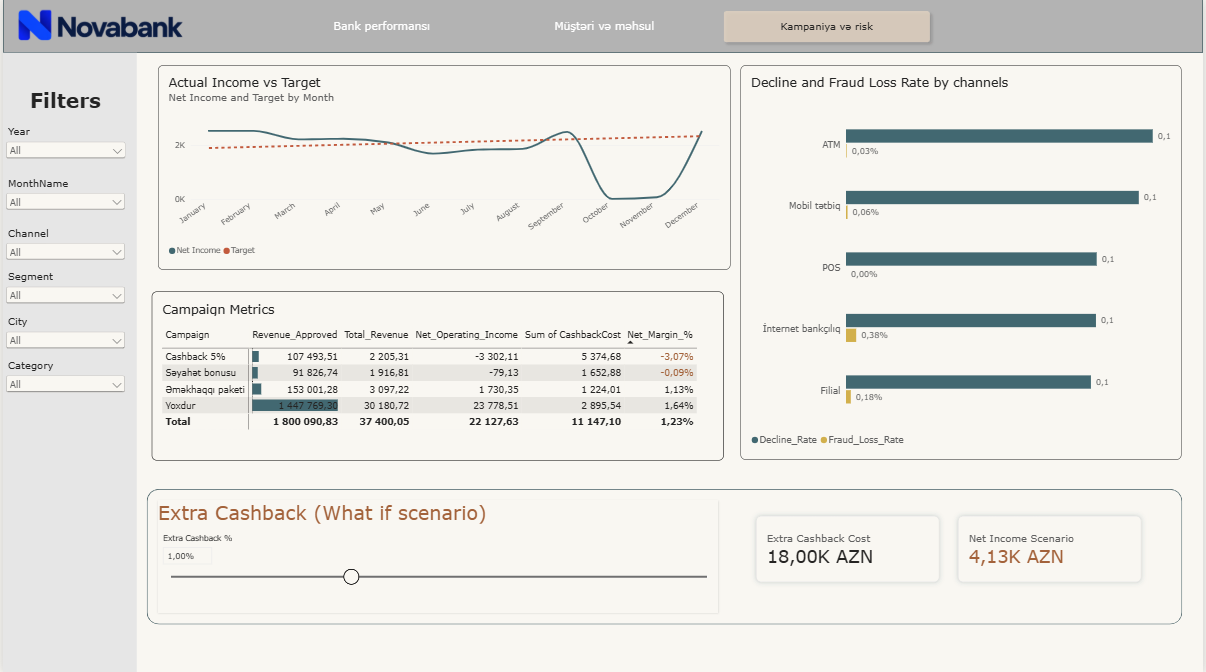

Layout of this report page (visuals, bound fields, positions):
{"tool":"powerbi","page":{"name":"Kampaniya və risk","canvas":[1920,1080],"ordinal":2},"visuals":[{"type":"shape","box":[229.8,783.6,1656.7,216.7],"z":0},{"type":"shape","box":[0,0,1920,86],"z":1000},{"type":"pageNavigator","box":[432,10,1062,68],"z":2000},{"type":"image","box":[0,0,312,84],"z":3000},{"type":"shape","box":[0,86,214,994],"z":4000},{"type":"slicer","fields":{"Values":["Calendar.Year"]},"box":[0,202,200.9,67],"z":5000},{"type":"slicer","fields":{"Values":["Calendar.MonthName"]},"box":[0,284,200,65.7],"z":6000},{"type":"slicer","fields":{"Values":["Customers.Segment"]},"box":[0,434,200,70],"z":7000},{"type":"slicer","fields":{"Values":["Transactions_2024_2025.Channel"]},"box":[0,364,200,70],"z":8000},{"type":"slicer","fields":{"Values":["Branches.City"]},"box":[0,506,200,70],"z":9000},{"type":"textbox","box":[0,142,200,44],"z":10000},{"type":"slicer","fields":{"Values":["Products.Category"]},"box":[0,576.7,200,70],"z":11000},{"type":"pivotTable","title":"Campaign Metrics","fields":{"Rows":["Transactions_2024_2025.Campaign"],"Values":["Metrics.Revenue_Approved","Metrics.Total_Revenue","Metrics.Net_Operating_Income","Sum(Transactions_2024_2025.CashbackCost)","Metrics.Net_Margin_%"]},"box":[238.9,468.7,915,270],"z":12000},{"type":"clusteredBarChart","title":"Decline and Fraud Loss Rate by channels","fields":{"Category":["Transactions_2024_2025.Channel"],"Y":["Metrics.Decline_Rate","Metrics.Fraud_Loss_Rate"]},"box":[1179.9,106.8,705.8,631.6],"z":13000},{"type":"lineChart","title":"Actual Income vs Target","fields":{"Category":["Targets.MonthStart.Variation.Date Hierarchy.Month"],"Y":["Metrics.Net_Operating_Income","Sum(Targets.NetIncomeTarget)"]},"box":[247.9,106.8,915.7,327.5],"z":14000},{"type":"cardVisual","fields":{"Data":["Metrics.Extra_Cashback_Cost","Metrics.Net_Operating_Income_Scenario"]},"box":[1194.4,816.2,638,128],"z":15000},{"type":"slicer","title":"Extra Cashback (What if scenario)","fields":{"Values":["Extra Cashback %.Extra Cashback %"]},"box":[247.9,801.7,896.7,180],"z":16000}]}

Visuals, with their boxes in screenshot pixels (x1, y1, x2, y2), scaled from the page's 1920x1080 canvas onto the 1206x672 screenshot:
shape: left=144, top=488, right=1185, bottom=622
shape: left=0, top=0, right=1205, bottom=54
pageNavigator: left=271, top=6, right=938, bottom=49
image: left=0, top=0, right=196, bottom=52
shape: left=0, top=54, right=134, bottom=671
slicer - Calendar.Year: left=0, top=126, right=126, bottom=167
slicer - Calendar.MonthName: left=0, top=177, right=126, bottom=218
slicer - Customers.Segment: left=0, top=270, right=126, bottom=314
slicer - Transactions_2024_2025.Channel: left=0, top=226, right=126, bottom=270
slicer - Branches.City: left=0, top=315, right=126, bottom=358
textbox: left=0, top=88, right=126, bottom=116
slicer - Products.Category: left=0, top=359, right=126, bottom=402
"Campaign Metrics" pivotTable: left=150, top=292, right=725, bottom=460
"Decline and Fraud Loss Rate by channels" clusteredBarChart: left=741, top=66, right=1184, bottom=459
"Actual Income vs Target" lineChart: left=156, top=66, right=731, bottom=270
cardVisual - Metrics.Extra_Cashback_Cost x Metrics.Net_Operating_Income_Scenario: left=750, top=508, right=1151, bottom=588
"Extra Cashback (What if scenario)" slicer: left=156, top=499, right=719, bottom=611
